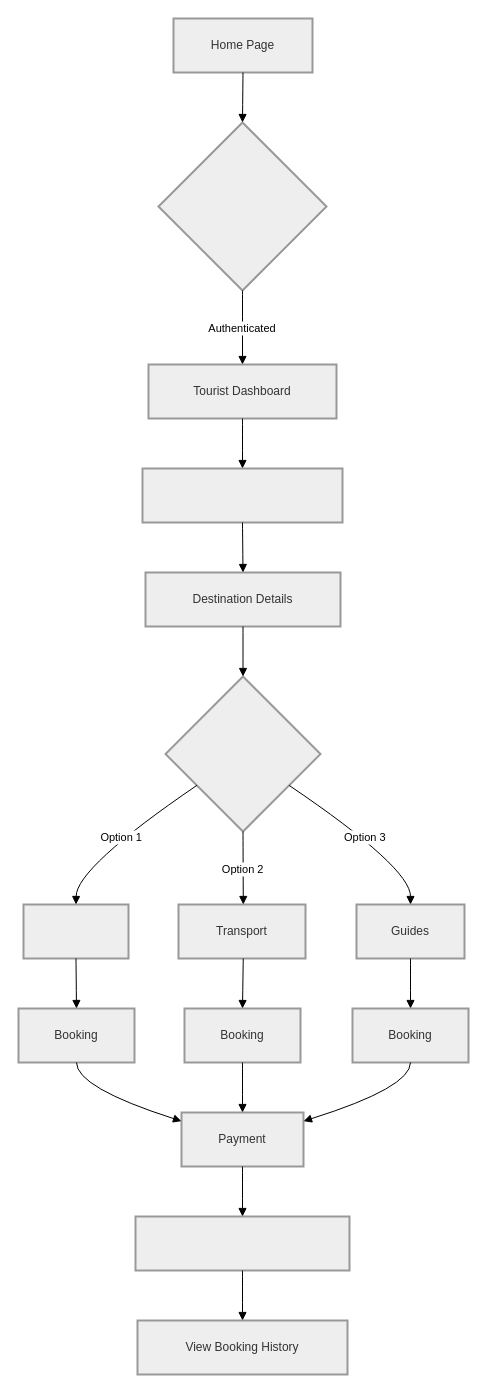
Some shapes in this 486 by 1392 pixel diagram are drawn without their labels. The shapes that lost their labels are listed below. From the top down, each one's centre as x and y in pixels, then its label:
At [242,206]: "Login / Register".
At [242,495]: "Search Destinations".
At [242,753]: "Select Service".
At [75,931]: "Hotels".
At [242,1243]: "Booking Confirmation".
